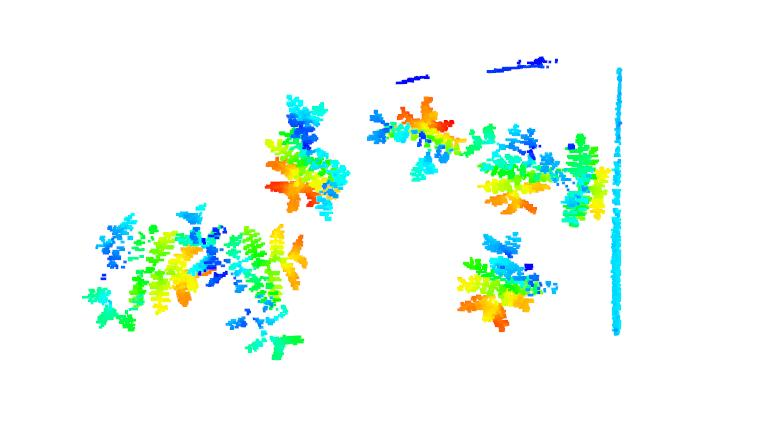chickpea: (178, 202, 310, 364), (80, 212, 214, 338), (453, 228, 560, 339), (260, 93, 351, 223), (463, 123, 561, 217), (364, 93, 464, 185), (541, 133, 611, 227)
